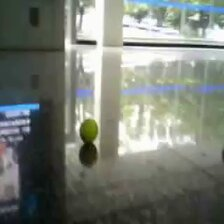tennis: (79, 118, 97, 142)
